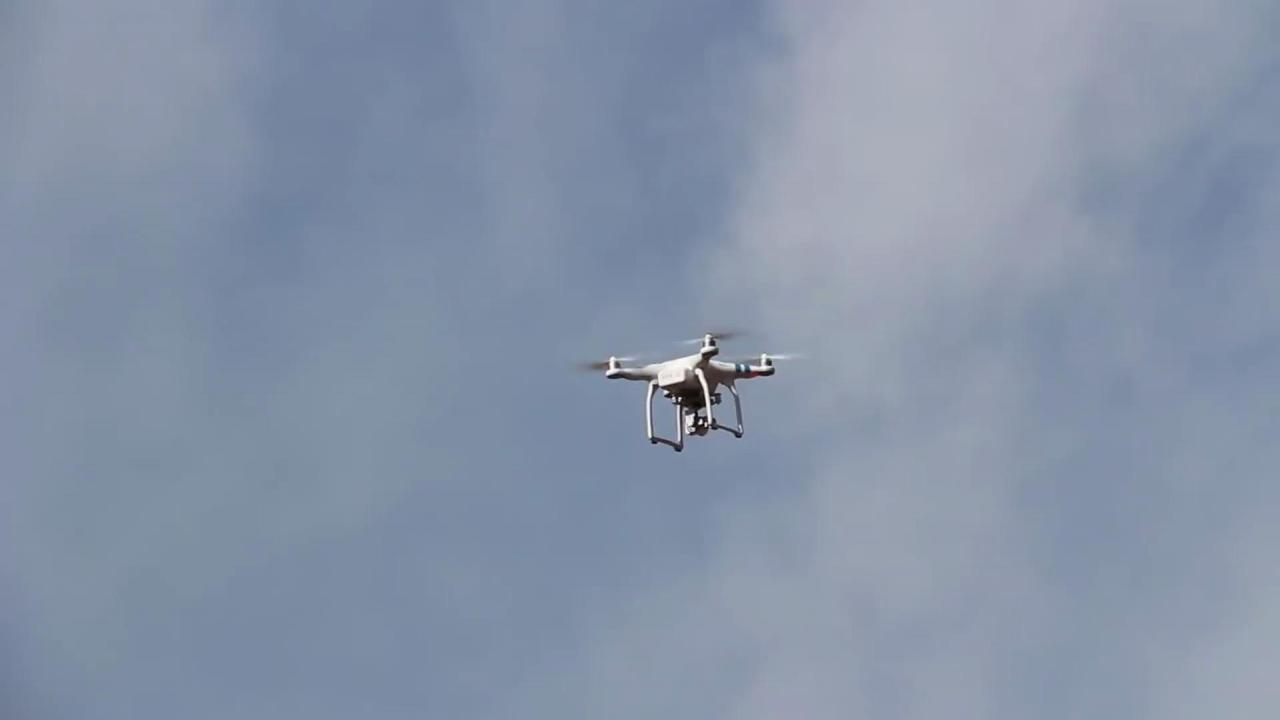Drone: (568, 320, 821, 456)
